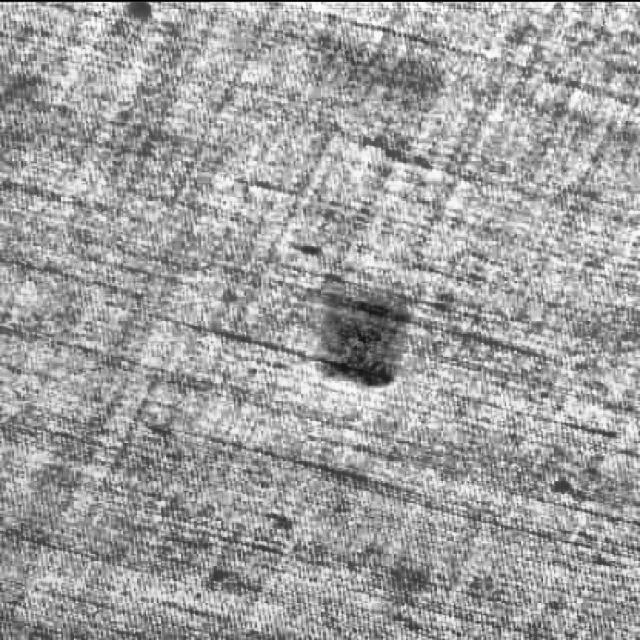oil_spot: (305, 281, 422, 399)
